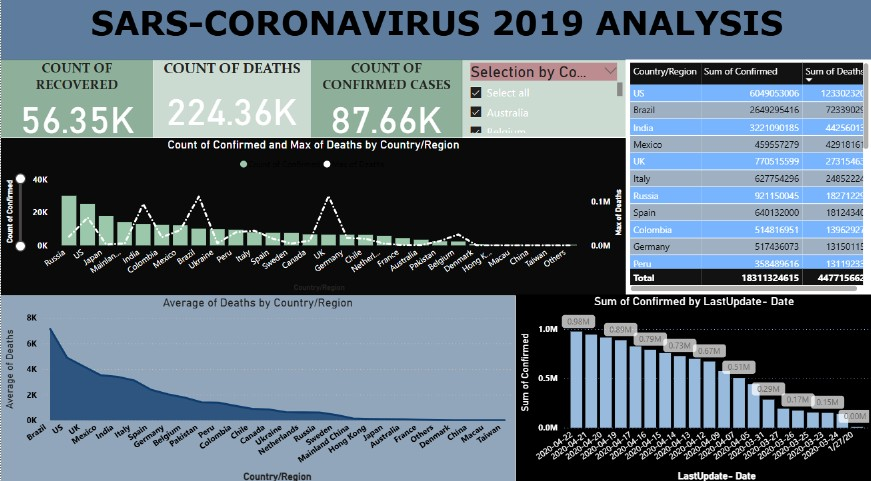

The page's visual inventory and layout, read from the dashboard file:
{"tool":"powerbi","page":{"name":"Page 1","canvas":[1280,720],"ordinal":0},"visuals":[{"type":"textbox","box":[0,7,1280,88.7],"z":0},{"type":"card","title":"COUNT OF DEATHS","fields":{"Values":["CountNonNull(covid_19_data.Deaths)"]},"box":[223.5,95.6,230.9,114.7],"z":1000},{"type":"card","title":"COUNT OF RECOVERED","fields":{"Values":["Count(covid_19_data.Recovered)"]},"box":[0,95.6,223.5,114.7],"z":2000},{"type":"slicer","fields":{"Values":["covid_19_data.Country/Region"]},"box":[676.5,95.6,241.2,113.2],"z":3000},{"type":"lineStackedColumnComboChart","fields":{"Category":["covid_19_data.Country/Region"],"Y":["CountNonNull(covid_19_data.Confirmed)"],"Y2":["Max(covid_19_data.Deaths)"]},"box":[0,210.3,917.6,230.9],"z":4000},{"type":"tableEx","fields":{"Values":["covid_19_data.Country/Region","Sum(covid_19_data.Confirmed)","Sum(covid_19_data.Deaths)"]},"box":[917.6,95.6,361.8,345.6],"z":5000},{"type":"areaChart","fields":{"Category":["covid_19_data.Country/Region"],"Y":["Avg(covid_19_data.Deaths)"]},"box":[0,441.2,754.4,279.4],"z":6000},{"type":"lineClusteredColumnComboChart","fields":{"Y":["Sum(covid_19_data.Confirmed)"],"Category":["covid_19_data.LastUpdate- Date"]},"box":[755.9,440.6,523.5,279.4],"z":7000},{"type":"card","title":"COUNT OF CONFIRMED CASES","fields":{"Values":["Count(covid_19_data.Confirmed)"]},"box":[454.4,95.6,222.1,114.7],"z":8000}]}

Visuals, with their boxes in screenshot pixels (x1, y1, x2, y2), scaled from the page's 1280x720 canvas onto the 871x481 screenshot:
textbox: {"left": 0, "top": 5, "right": 870, "bottom": 64}
"COUNT OF DEATHS" card: {"left": 152, "top": 64, "right": 309, "bottom": 140}
"COUNT OF RECOVERED" card: {"left": 0, "top": 64, "right": 152, "bottom": 140}
slicer - covid_19_data.Country/Region: {"left": 460, "top": 64, "right": 624, "bottom": 139}
lineStackedColumnComboChart - covid_19_data.Country/Region x CountNonNull(covid_19_data.Confirmed): {"left": 0, "top": 140, "right": 624, "bottom": 295}
tableEx - covid_19_data.Country/Region x Sum(covid_19_data.Confirmed): {"left": 624, "top": 64, "right": 870, "bottom": 295}
areaChart - covid_19_data.Country/Region x Avg(covid_19_data.Deaths): {"left": 0, "top": 295, "right": 513, "bottom": 480}
lineClusteredColumnComboChart - Sum(covid_19_data.Confirmed) x covid_19_data.LastUpdate- Date: {"left": 514, "top": 294, "right": 870, "bottom": 480}
"COUNT OF CONFIRMED CASES" card: {"left": 309, "top": 64, "right": 460, "bottom": 140}
